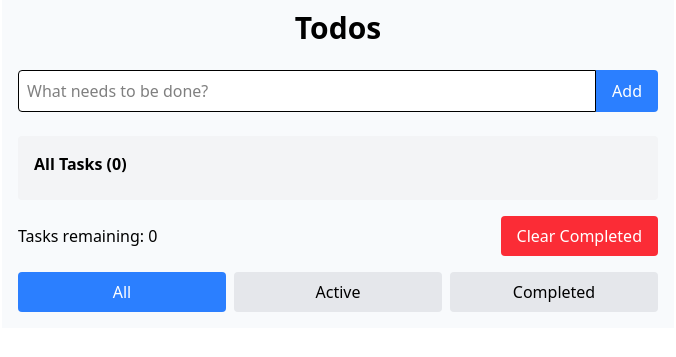
it: Todos › adds a new todo
In the field with placeholder "What needs to be done?": [307, 91] box [18,70,596,112], type "Buy milk"
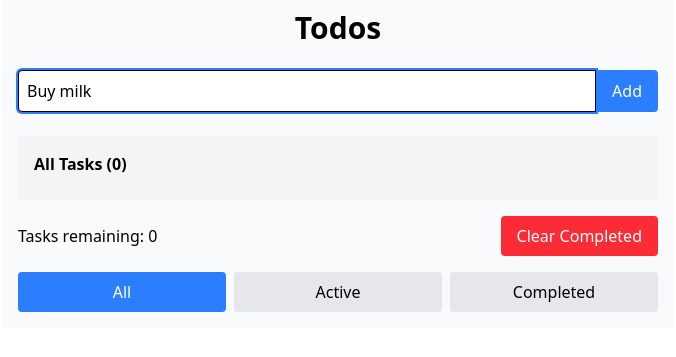
Click the button "Add": [627, 91] box [596,70,658,112]
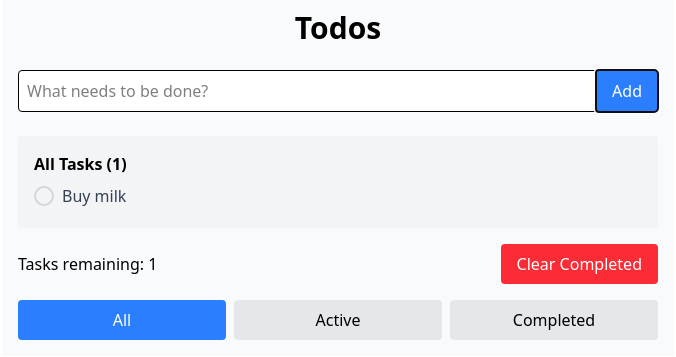
Expected: the text "Buy milk" is shown, [62,184,126,208]
Expected: the text "Tasks remaining: 1" is shown, [18,252,157,276]
